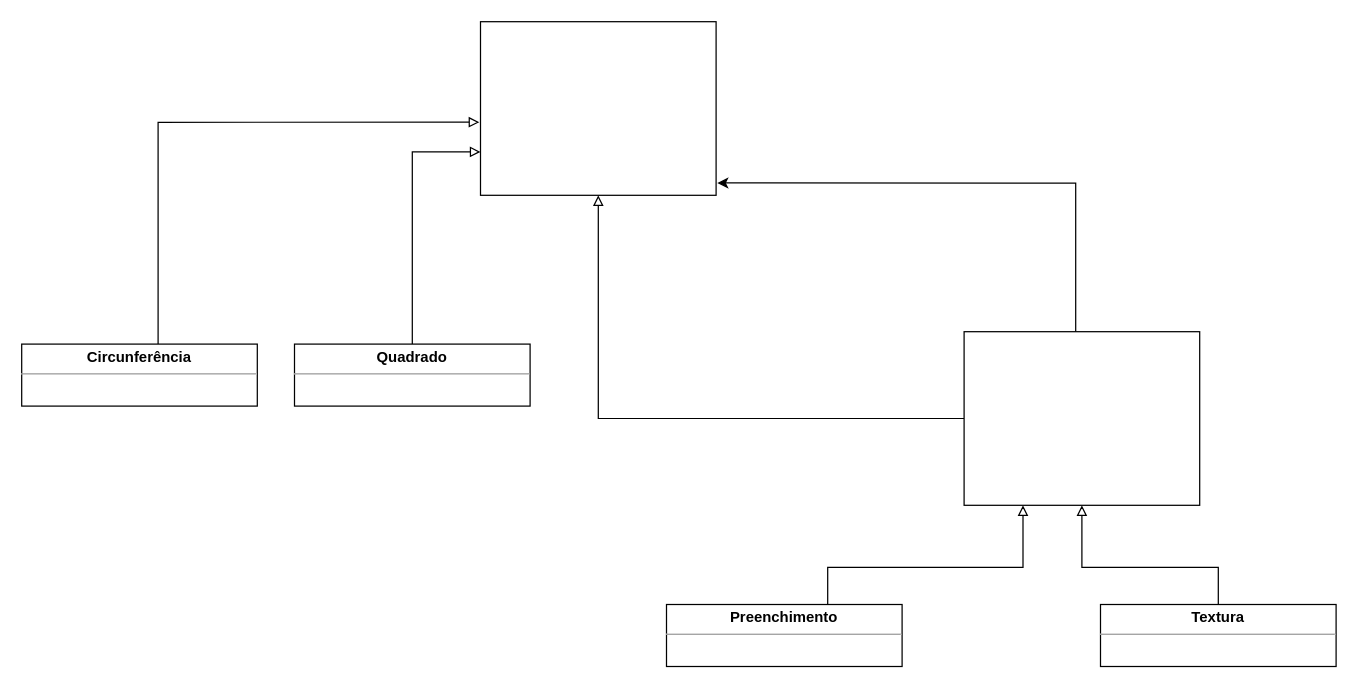
This 1358x688 diagram has some shape labels left out. Here are the shapes that lost their labels. From the top down, the centre of each, then its label:
At pixel 597 107: "<<Abstract>> Forma - descrição: String - lados: int + desenhar():void".
At pixel 1081 417: "<<Abstract>> Decorador - formaDecorada :Forma + desenhar():void".
